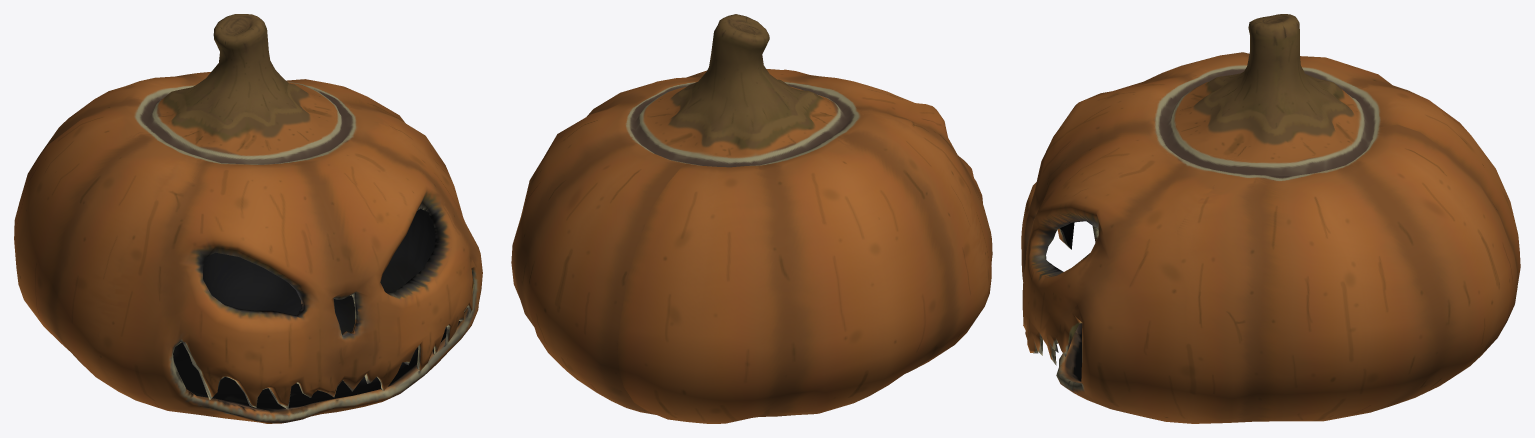
File: Pumpkinv1.fbx
3 renders of one model, left to right at view 1: azimuth 30°, elevation 25°; view 2: azimuth 150°, elevation 25°; view 3: azimuth 270°, elevation 25°, orthographic. The views are drawn at different scales.
Parts seen in each view (by area): view 1: Pumpkin_Revized2_Plane.003; view 2: Pumpkin_Revized2_Plane.003; view 3: Pumpkin_Revized2_Plane.003.
Boxes of the visible parts, x1,y1,x2,y2 form: Pumpkin_Revized2_Plane.003: [14, 14, 482, 423]; Pumpkin_Revized2_Plane.003: [511, 14, 992, 423]; Pumpkin_Revized2_Plane.003: [1021, 14, 1520, 423].
Size of the model in its own units: 1.3 by 1.08 by 1.35.
1 material, 1 textured.
